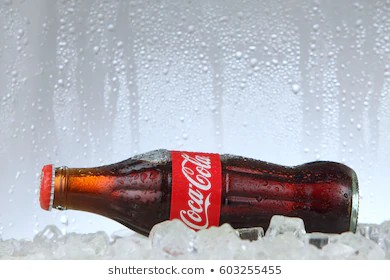coke-glass-bottle: (33, 152, 363, 242)
